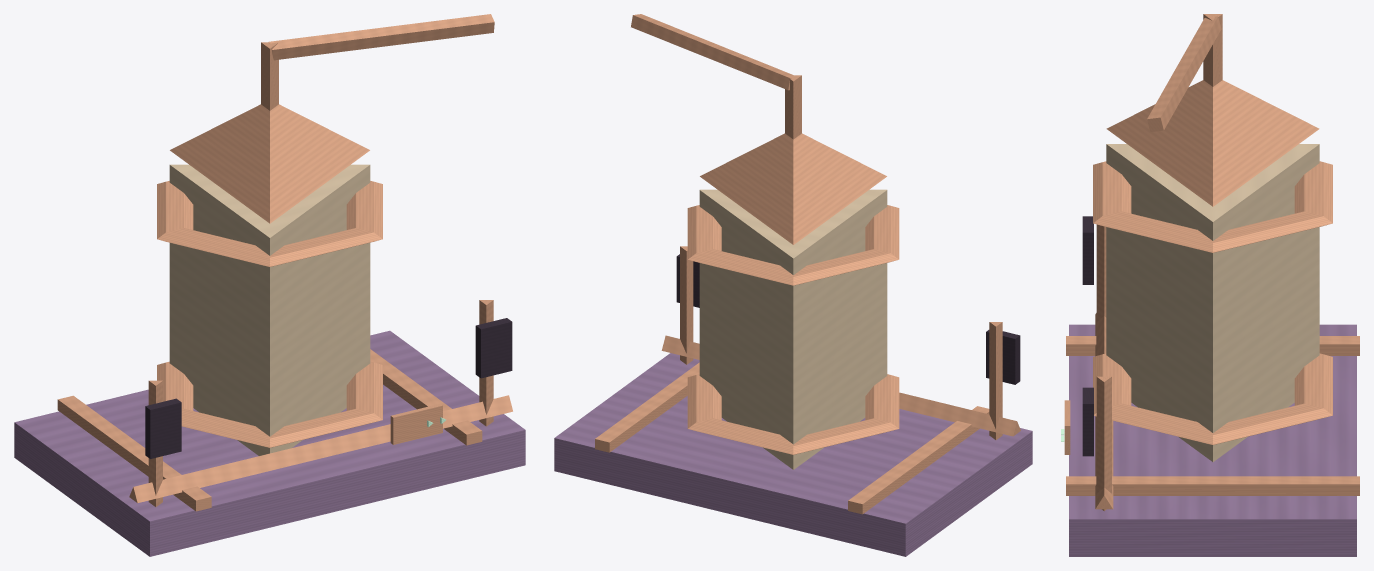
Rendered from atlas100-s085-a02.lod1.glb.
The picture shows the model from 3 angles, left to right: view 1: azimuth 30°, elevation 25°; view 2: azimuth 150°, elevation 25°; view 3: azimuth 270°, elevation 25°; orthographic projection. The views are drawn at different scales.
Parts seen in each view (by area): view 1: atlas100-s085-a02:part-003, atlas100-s085-a02:part-000, atlas100-s085-a02:part-007, atlas100-s085-a02:part-005, atlas100-s085-a02:part-004, atlas100-s085-a02:part-014, atlas100-s085-a02:part-009, atlas100-s085-a02:part-001, atlas100-s085-a02:part-002, atlas100-s085-a02:part-013, atlas100-s085-a02:part-011, atlas100-s085-a02:part-015 (+3 smaller); view 2: atlas100-s085-a02:part-000, atlas100-s085-a02:part-003, atlas100-s085-a02:part-007, atlas100-s085-a02:part-004, atlas100-s085-a02:part-005, atlas100-s085-a02:part-001, atlas100-s085-a02:part-009, atlas100-s085-a02:part-014, atlas100-s085-a02:part-002, atlas100-s085-a02:part-010, atlas100-s085-a02:part-012, atlas100-s085-a02:part-011 (+1 smaller); view 3: atlas100-s085-a02:part-003, atlas100-s085-a02:part-000, atlas100-s085-a02:part-007, atlas100-s085-a02:part-005, atlas100-s085-a02:part-004, atlas100-s085-a02:part-002, atlas100-s085-a02:part-009, atlas100-s085-a02:part-012, atlas100-s085-a02:part-001, atlas100-s085-a02:part-014, atlas100-s085-a02:part-010, atlas100-s085-a02:part-008 (+3 smaller).
Part boxes in pixels (x1,y1,x2,y2): atlas100-s085-a02:part-003: (169,164,370,455); atlas100-s085-a02:part-000: (14,330,525,556); atlas100-s085-a02:part-007: (170,104,369,223); atlas100-s085-a02:part-005: (157,181,382,266); atlas100-s085-a02:part-004: (157,361,382,447); atlas100-s085-a02:part-014: (129,395,512,503); atlas100-s085-a02:part-009: (268,14,494,60); atlas100-s085-a02:part-001: (57,395,211,511); atlas100-s085-a02:part-002: (370,349,482,445); atlas100-s085-a02:part-013: (475,318,512,378); atlas100-s085-a02:part-011: (145,398,181,458); atlas100-s085-a02:part-015: (390,404,442,444); atlas100-s085-a02:part-000: (554,353,1032,556); atlas100-s085-a02:part-003: (699,189,887,469); atlas100-s085-a02:part-007: (700,133,886,244); atlas100-s085-a02:part-004: (687,374,899,454); atlas100-s085-a02:part-005: (687,205,899,285); atlas100-s085-a02:part-001: (848,406,989,514); atlas100-s085-a02:part-009: (631,14,793,90); atlas100-s085-a02:part-014: (661,335,1020,436); atlas100-s085-a02:part-002: (595,362,699,452); atlas100-s085-a02:part-010: (989,322,1002,439); atlas100-s085-a02:part-012: (680,246,693,364); atlas100-s085-a02:part-011: (986,330,1020,384); atlas100-s085-a02:part-003: (1106,144,1319,461); atlas100-s085-a02:part-000: (1069,324,1356,556); atlas100-s085-a02:part-007: (1106,80,1319,206); atlas100-s085-a02:part-005: (1093,161,1332,252); atlas100-s085-a02:part-004: (1093,353,1332,444); atlas100-s085-a02:part-002: (1066,476,1359,495); atlas100-s085-a02:part-009: (1147,16,1221,132); atlas100-s085-a02:part-012: (1096,376,1111,510); atlas100-s085-a02:part-001: (1066,336,1359,355); atlas100-s085-a02:part-014: (1095,313,1113,509); atlas100-s085-a02:part-010: (1096,224,1106,321); atlas100-s085-a02:part-008: (1203,14,1222,86).
Size of the model in its own units: 2.95 by 3.06 by 1.87.
5 materials, 5 textured.
